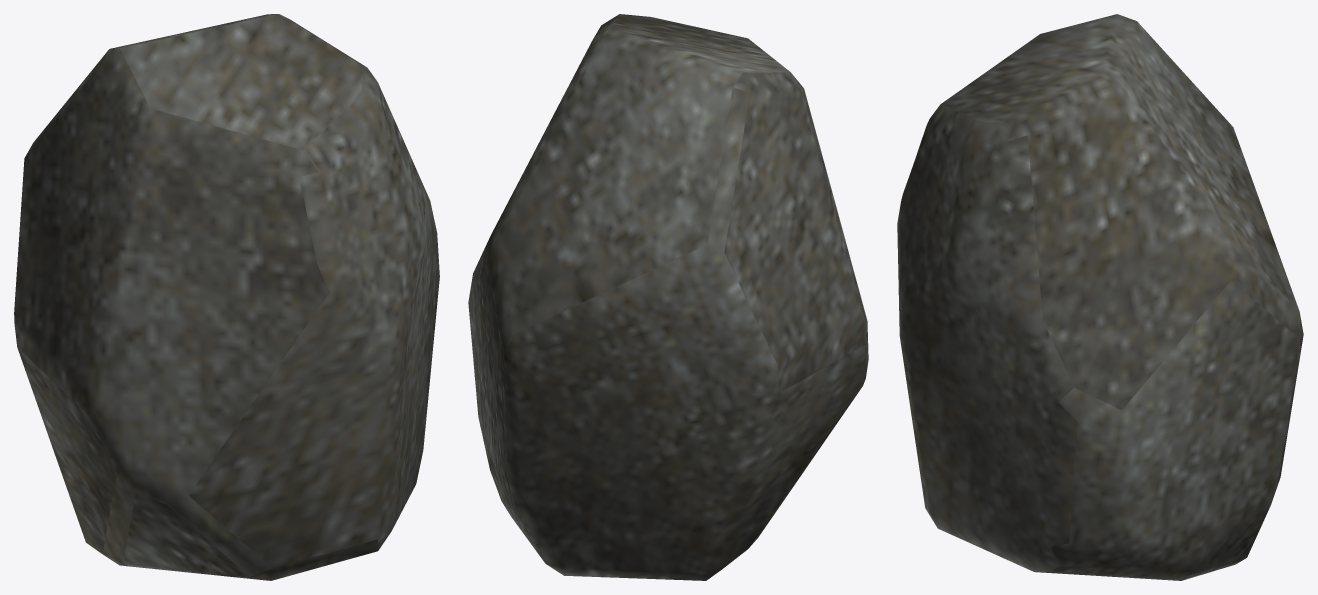
The model's file is rock2.fbx.
3 views of the same model, side by side, from view 1: azimuth 30°, elevation 25°; view 2: azimuth 150°, elevation 25°; view 3: azimuth 270°, elevation 25° (orthographic). The views are drawn at different scales.
Visible parts, largest first — view 1: Sphere; view 2: Sphere; view 3: Sphere.
Part boxes in pixels (box(x1,y1,x2,y2)): Sphere: box(14, 14, 439, 580); Sphere: box(468, 14, 868, 580); Sphere: box(897, 14, 1303, 580).
Bounding box in the file's own units: 182 × 247 × 183.
